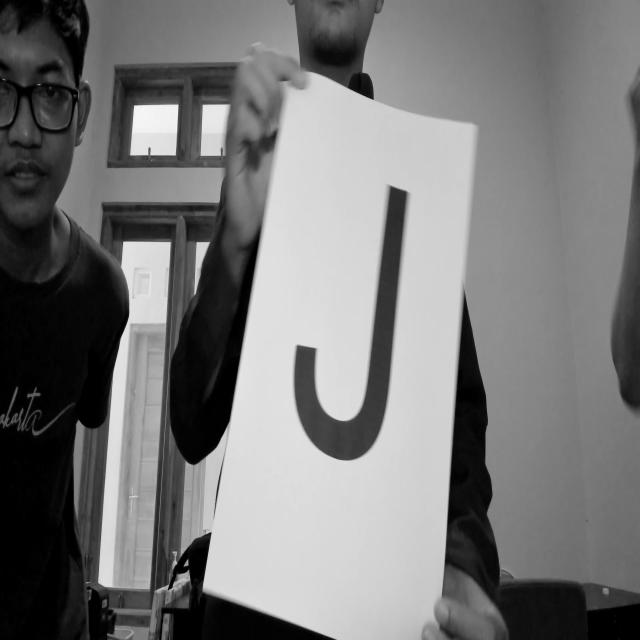j: (281, 179, 419, 473)
